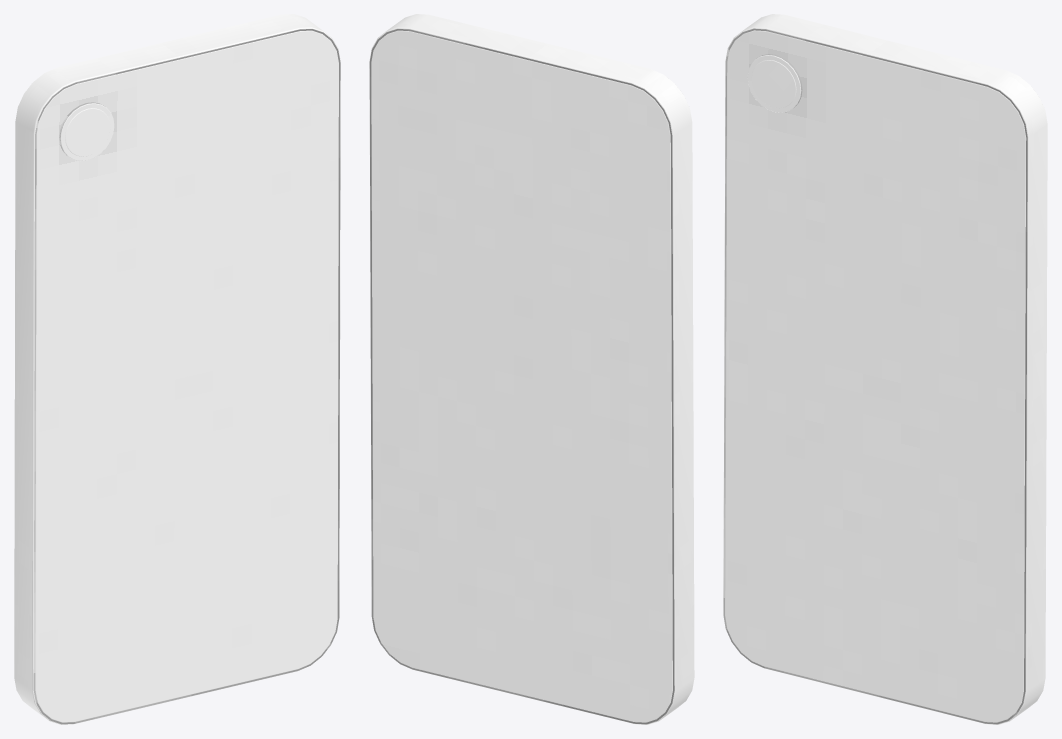
The model's file is SmartphoneShapes.glb.
3 renders of one model, left to right at view 1: azimuth 30°, elevation 25°; view 2: azimuth 150°, elevation 25°; view 3: azimuth 330°, elevation 25°, orthographic.
Parts seen in each view (by area): view 1: SmartphoneShapes; view 2: SmartphoneShapes; view 3: SmartphoneShapes.
Part boxes in pixels (x1,y1,x2,y2): SmartphoneShapes: [14, 14, 340, 724]; SmartphoneShapes: [369, 14, 694, 724]; SmartphoneShapes: [723, 14, 1047, 724].
Size of the model in its own units: 0.0731 by 0.1457 by 0.00918.
Materials: 1 (1 with a texture image).
